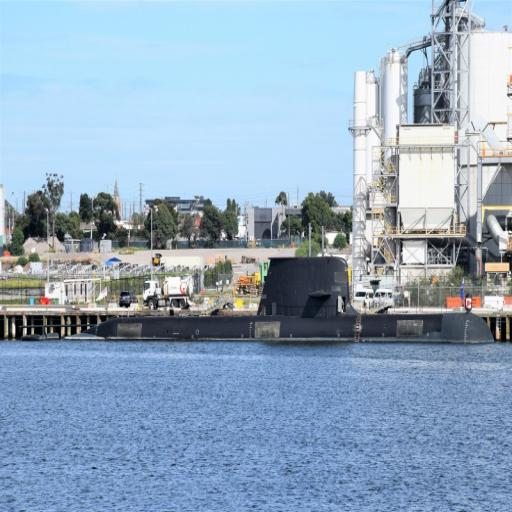submarine: (93, 255, 496, 346)
